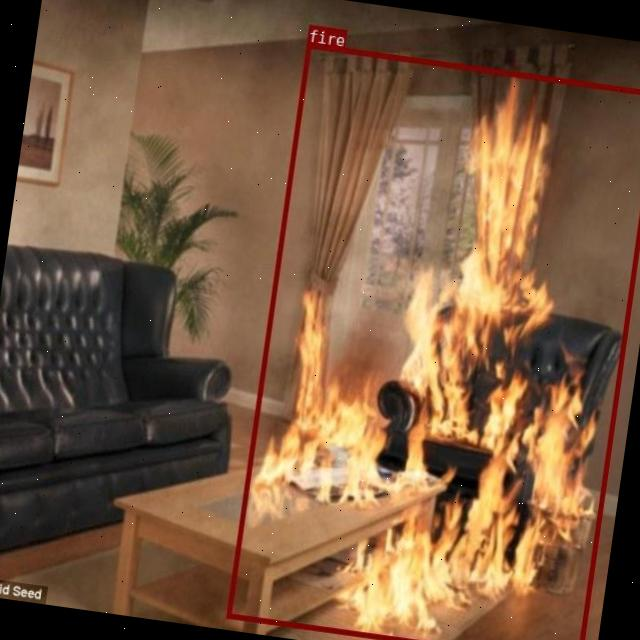fire: (226, 42, 640, 640)
